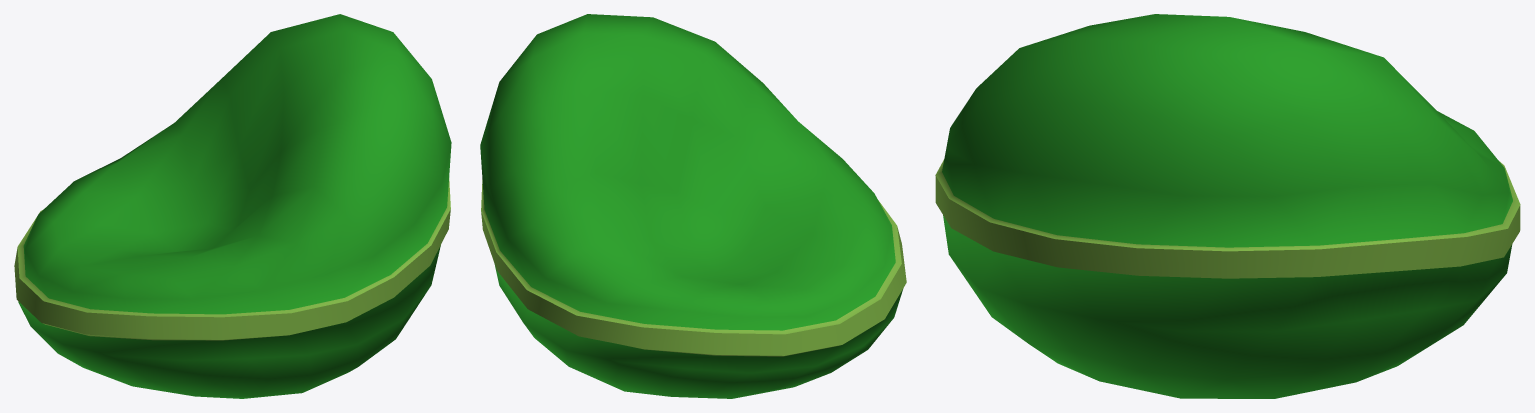
The model's file is Beanbag02.fbx.
The picture shows the model from 3 angles, left to right: view 1: azimuth 30°, elevation 25°; view 2: azimuth 150°, elevation 25°; view 3: azimuth 270°, elevation 25°; orthographic projection. The views are drawn at different scales.
Parts seen in each view (by area): view 1: Beanbag02; view 2: Beanbag02; view 3: Beanbag02.
Part boxes in pixels (x1=…): Beanbag02: x1=14, y1=14, x2=451, y2=398; Beanbag02: x1=480, y1=14, x2=906, y2=398; Beanbag02: x1=935, y1=14, x2=1520, y2=398.
Size of the model in its own units: 0.4009 by 0.3852 by 0.2993.
